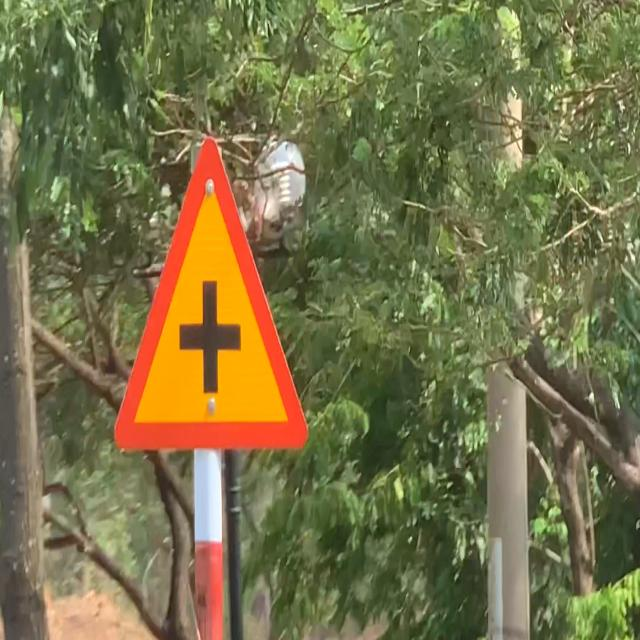Duong giao nhau: (111, 134, 311, 453)
